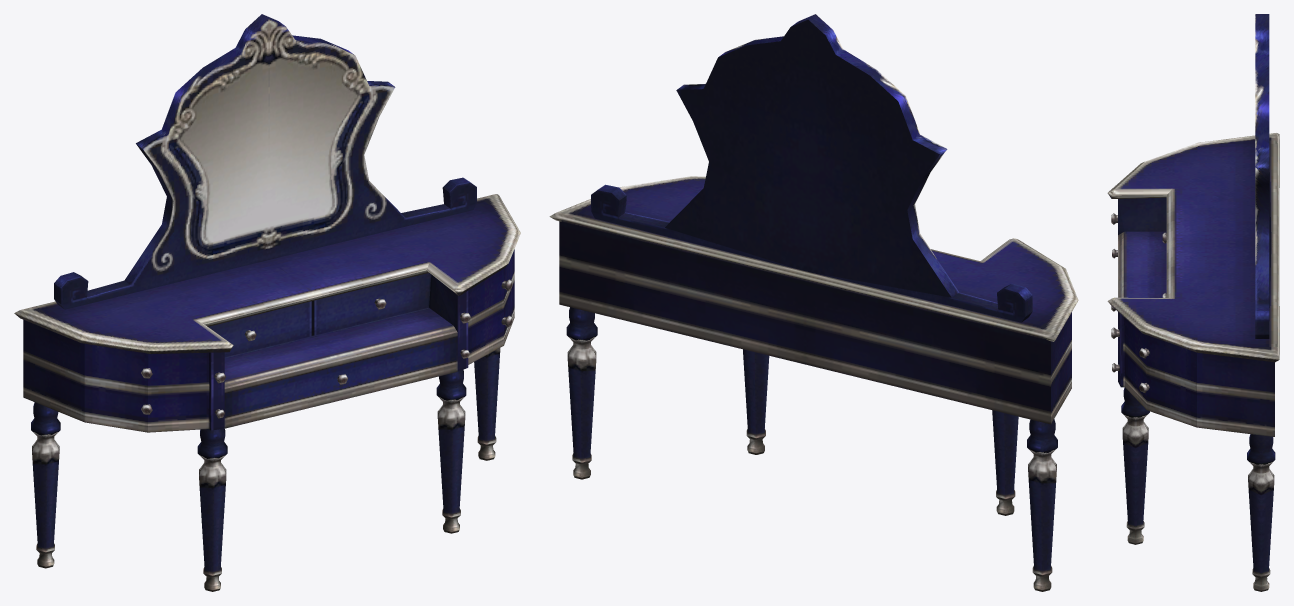
File: furni_0201117.FBX
The picture shows the model from 3 angles, left to right: view 1: azimuth 30°, elevation 25°; view 2: azimuth 150°, elevation 25°; view 3: azimuth 270°, elevation 25°; orthographic projection. The views are drawn at different scales.
Parts seen in each view (by area): view 1: furni_0201117; view 2: furni_0201117; view 3: furni_0201117.
Part boxes in pixels (<box>): furni_0201117: <box>14,14,520,591</box>; furni_0201117: <box>549,14,1078,591</box>; furni_0201117: <box>1107,14,1279,591</box>.
Size of the model in its own units: 158 by 154 by 50.83.
Materials: 1 (1 with a texture image).
